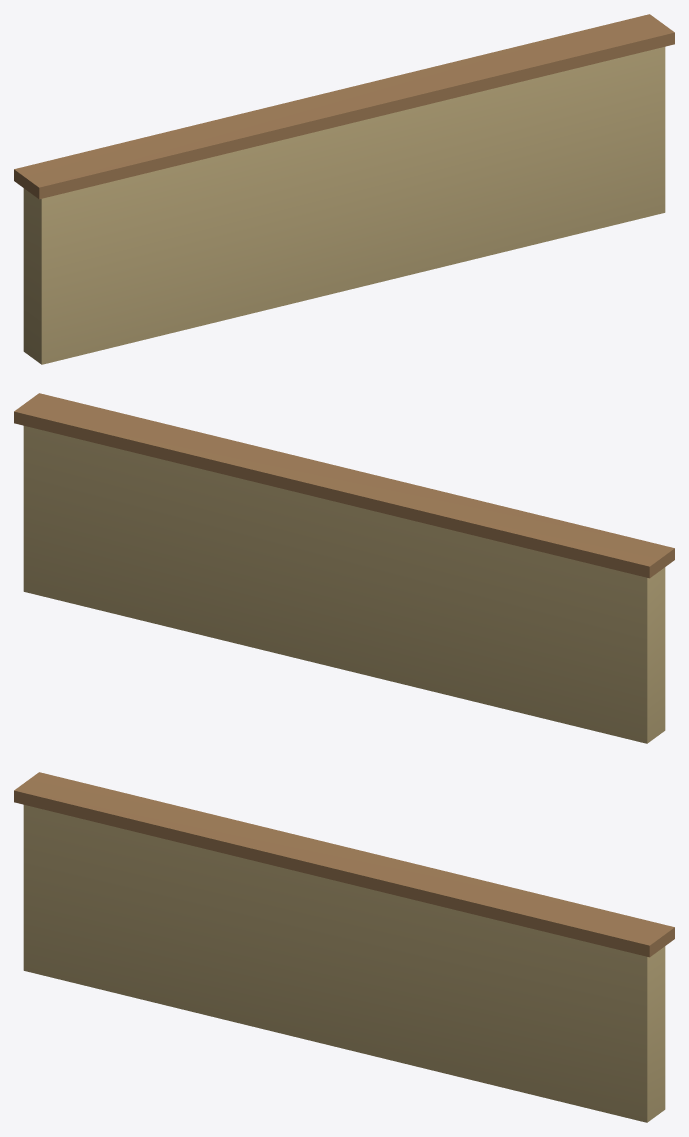
The model's file is moche_frieze_lod1.glb.
The picture shows the model from 3 angles, top to bottom: view 1: azimuth 30°, elevation 25°; view 2: azimuth 150°, elevation 25°; view 3: azimuth 330°, elevation 25°; orthographic projection.
Visible parts, largest first — view 1: GEO-Arch_moche_frieze_LOD1; view 2: GEO-Arch_moche_frieze_LOD1; view 3: GEO-Arch_moche_frieze_LOD1.
Part boxes in pixels (bbox=[...]): GEO-Arch_moche_frieze_LOD1: bbox=[14, 14, 674, 364]; GEO-Arch_moche_frieze_LOD1: bbox=[14, 393, 674, 743]; GEO-Arch_moche_frieze_LOD1: bbox=[14, 772, 674, 1122].
Size of the model in its own units: 10.2 by 2.78 by 0.7.
